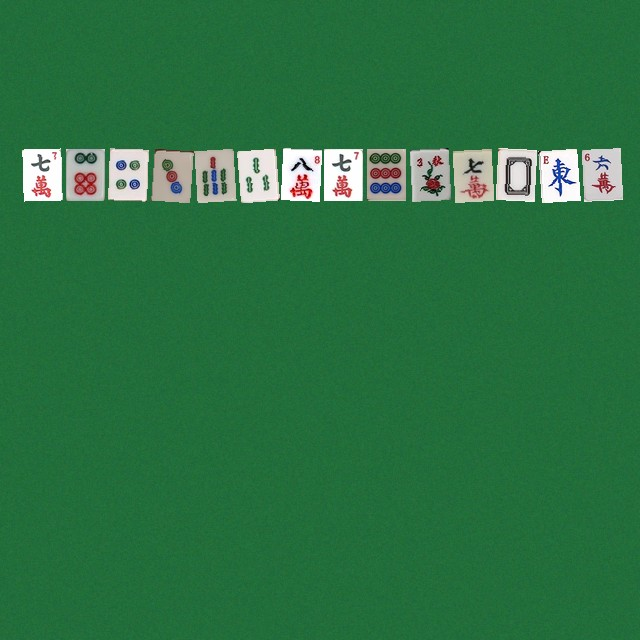tile: (22, 148, 61, 200), (65, 148, 104, 200), (108, 148, 147, 200), (151, 148, 190, 200), (194, 148, 233, 200), (237, 148, 276, 200), (280, 148, 319, 200), (323, 148, 362, 200), (366, 148, 405, 200), (409, 148, 448, 200), (452, 148, 491, 200), (495, 148, 534, 200), (538, 148, 577, 200), (581, 148, 620, 200)
